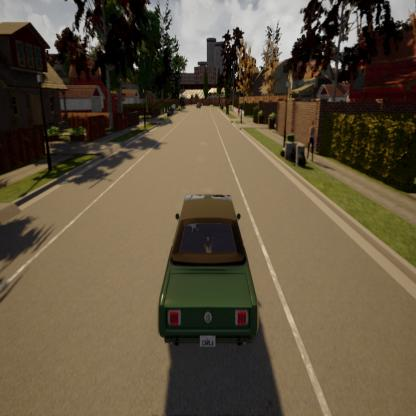Cars: (144, 186, 262, 362)
Pedestrian: (306, 118, 318, 164)
